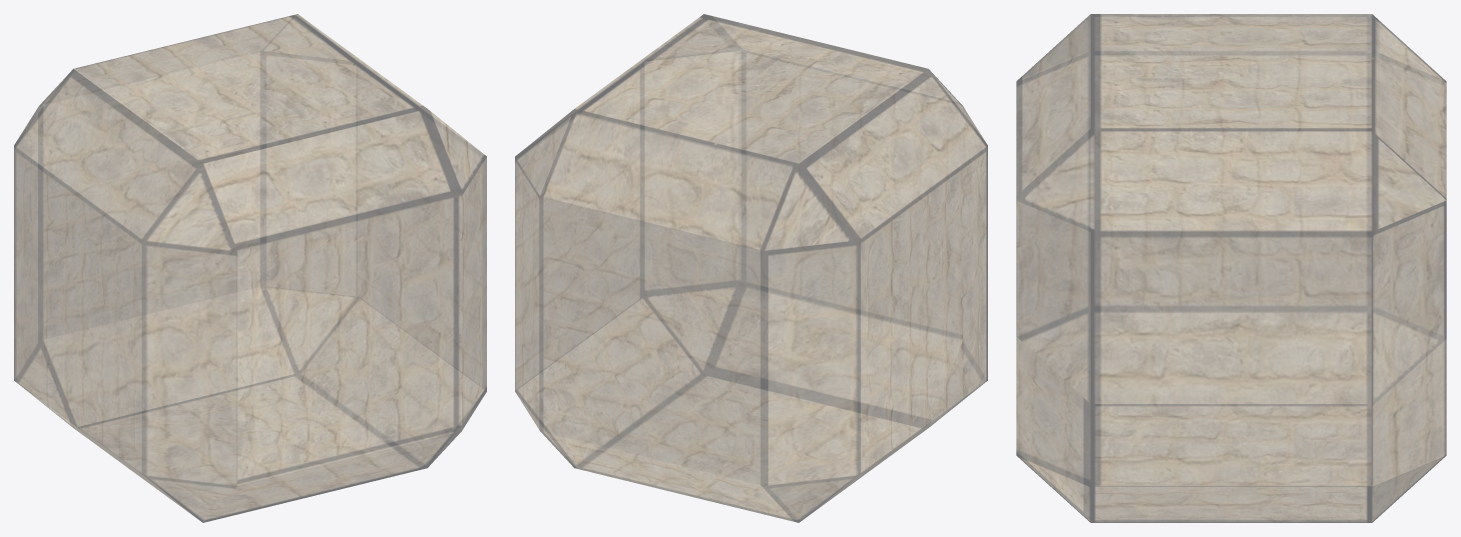
The model's file is monocubetransp.fbx.
The picture shows the model from 3 angles, left to right: view 1: azimuth 30°, elevation 25°; view 2: azimuth 150°, elevation 25°; view 3: azimuth 270°, elevation 25°; orthographic projection. The views are drawn at different scales.
Visible parts, largest first — view 1: Cube.001; view 2: Cube.001; view 3: Cube.001.
Part boxes in pixels (left/top/right/bottom): Cube.001: left=14, top=14, right=486, bottom=522; Cube.001: left=515, top=14, right=987, bottom=522; Cube.001: left=1016, top=14, right=1446, bottom=522.
Bounding box in the file's own units: 200 × 200 × 200.
Materials: 1 (1 with a texture image).
